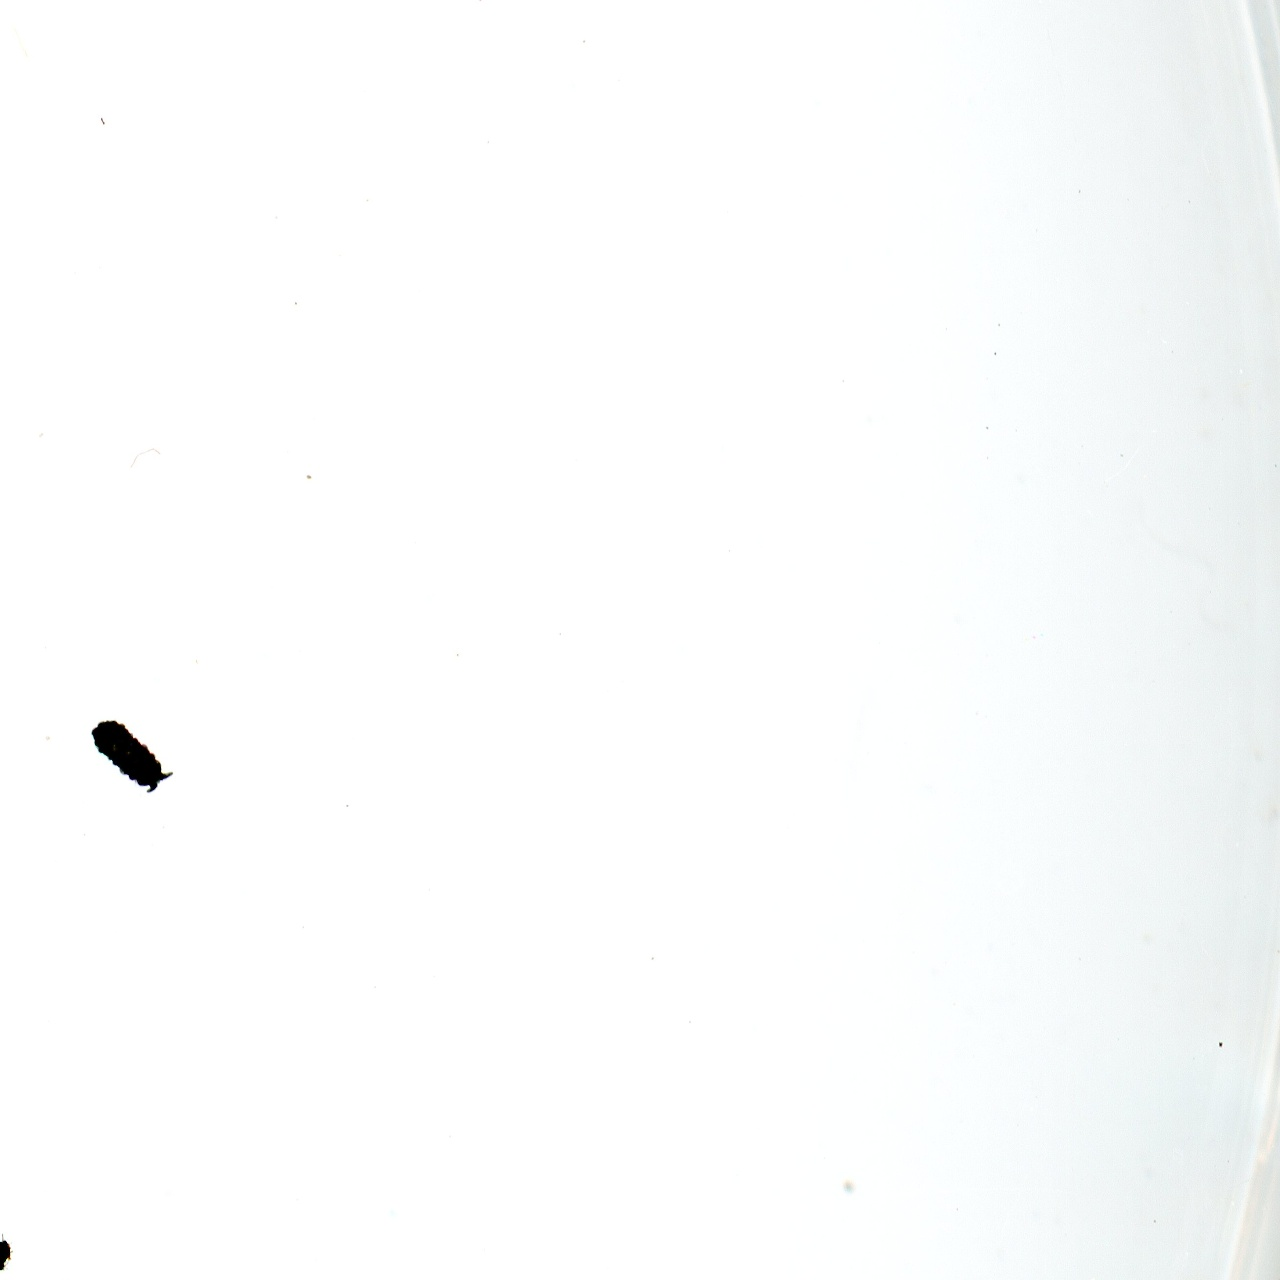arthropod: (79, 707, 179, 805)
